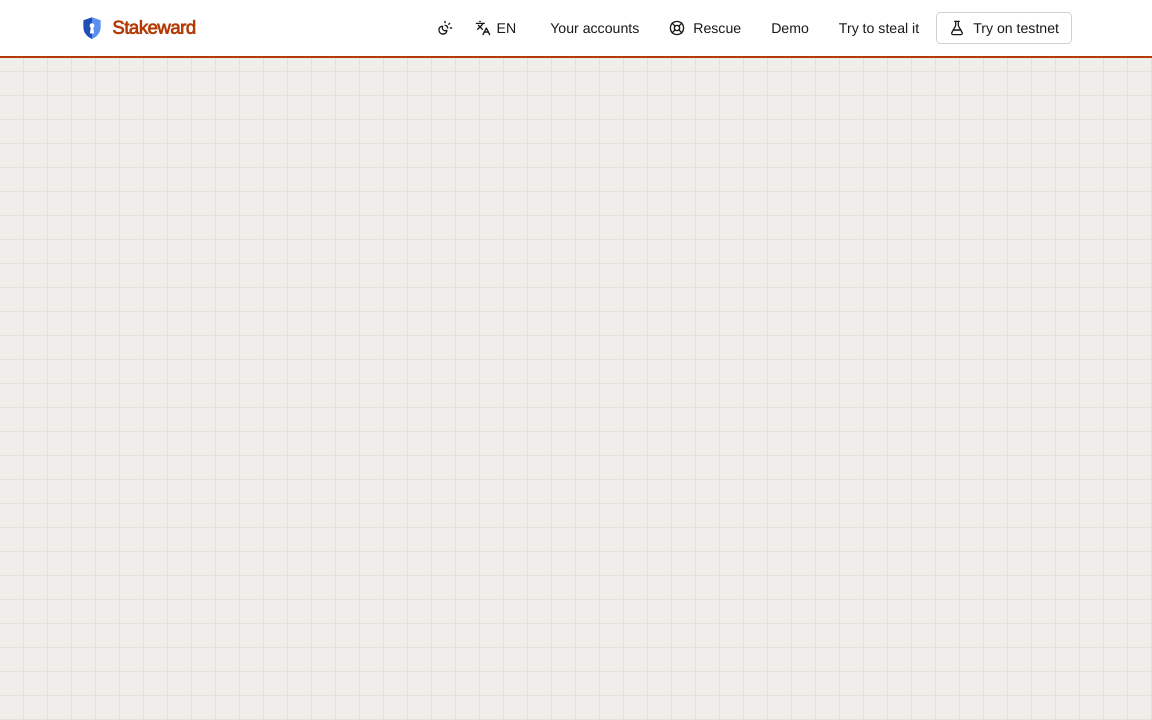
Test: SiteHeader › switches the theme next to the language: light, dark or the system one, kept for the next visit (D151)
Click the button named "Theme: System": x=445, y=28 [428,12,462,44]
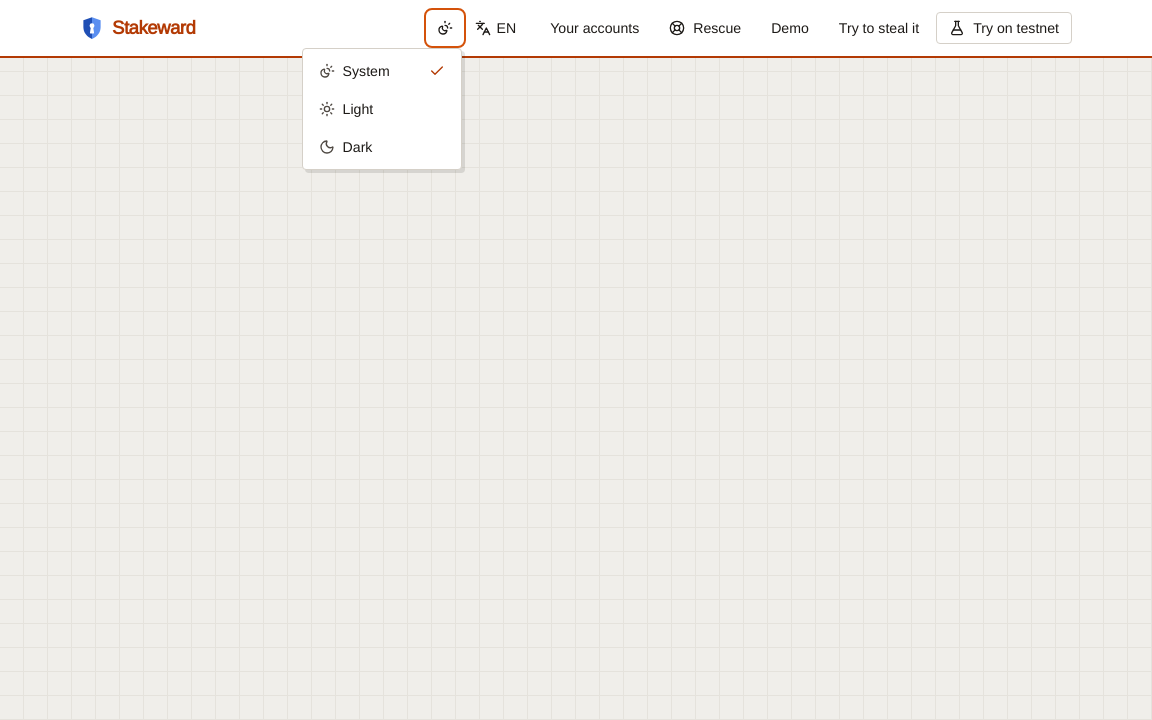
expect the buttons read "System", "Light", "Dark", in this order: met
Click the button "Dark": x=382, y=147 [307,129,457,165]
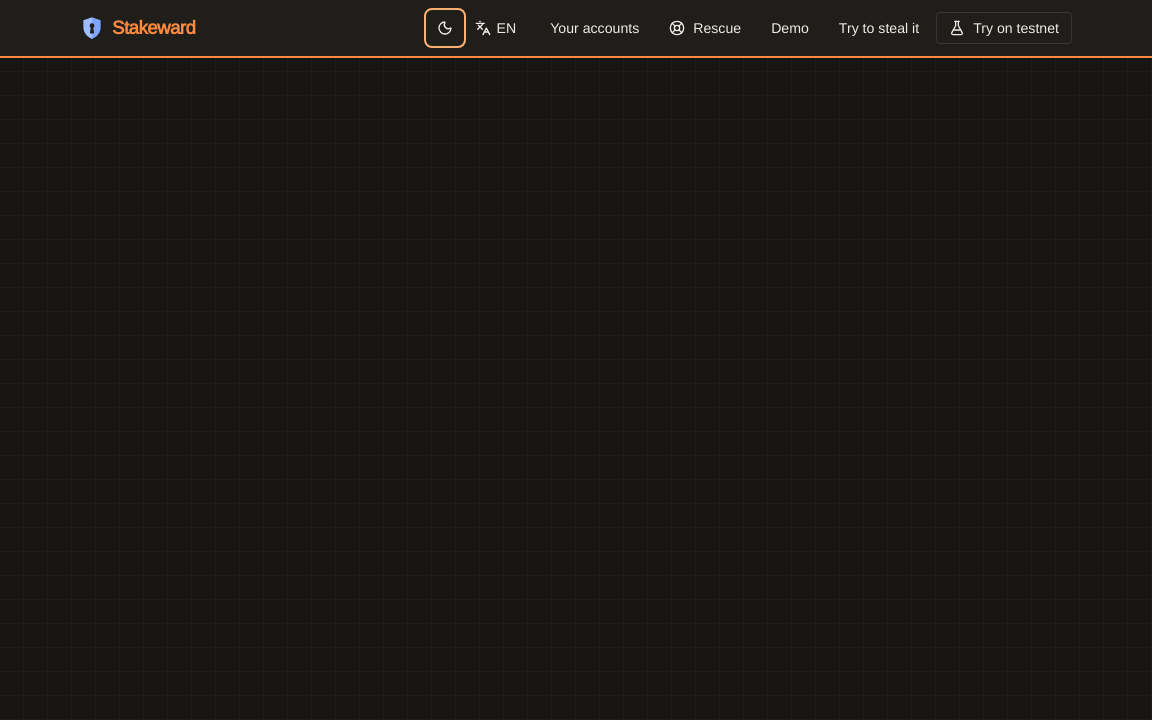
expect the button named "Theme: Dark" is collapsed: met
Click the button named "Theme: Dark": x=445, y=28 [428,12,462,44]
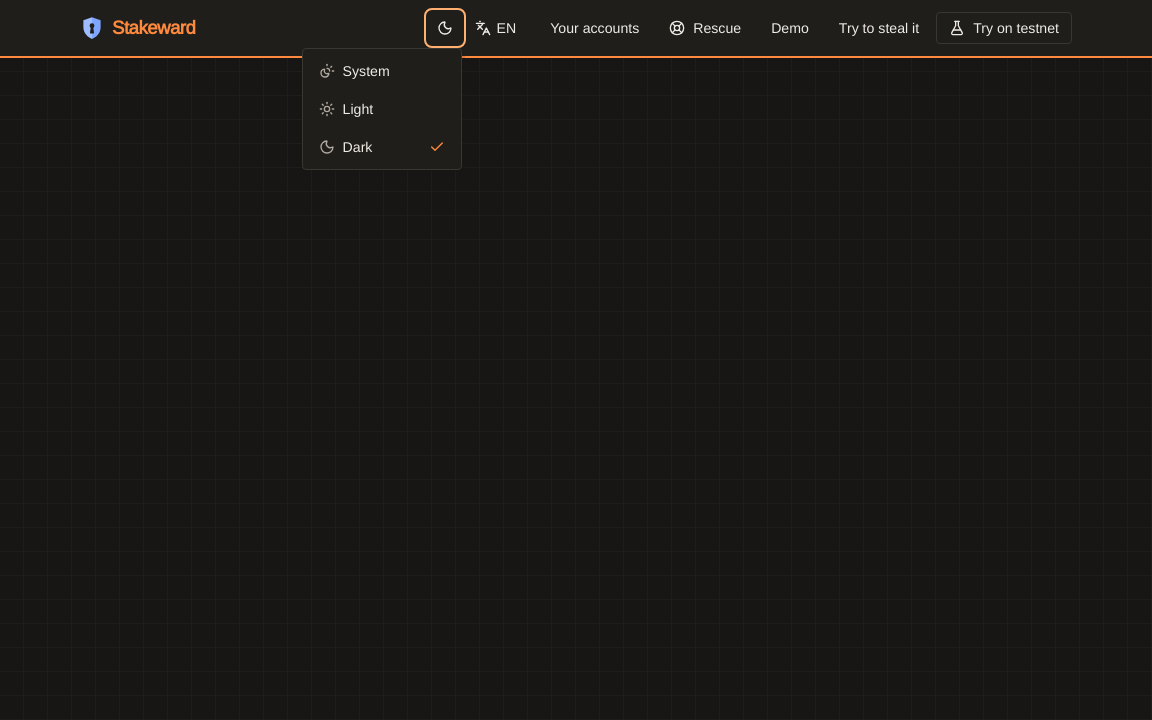
Press Escape
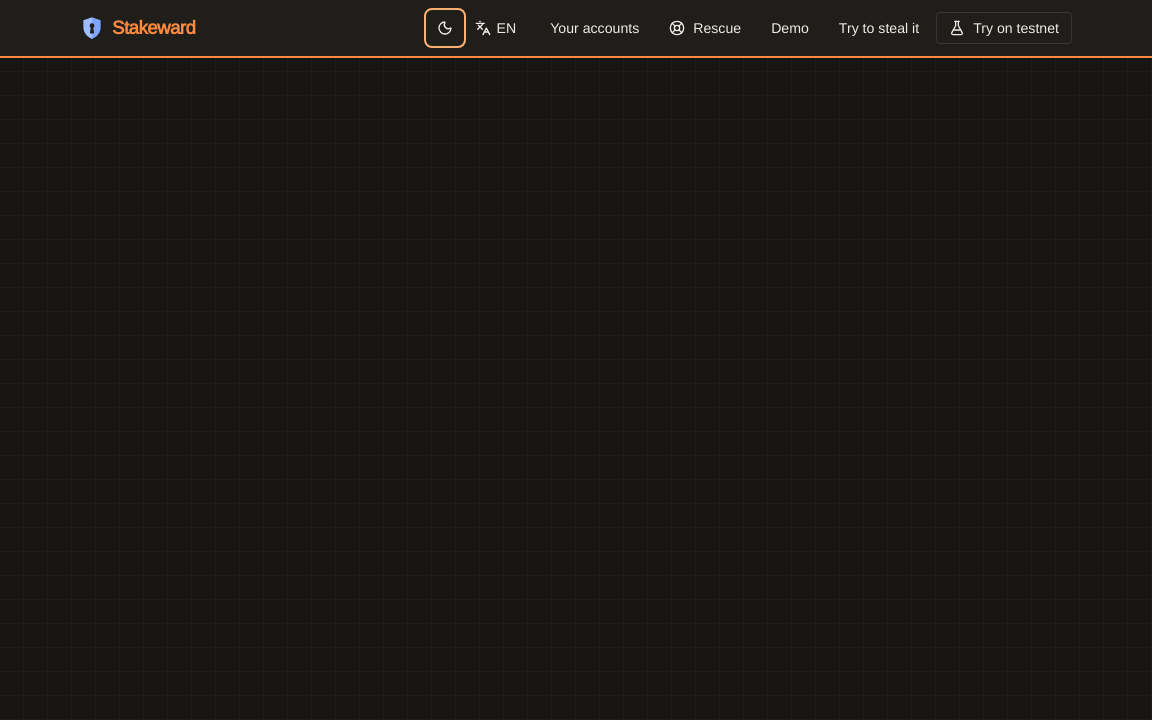
Click the button named "Theme: Dark": x=445, y=28 [428,12,462,44]
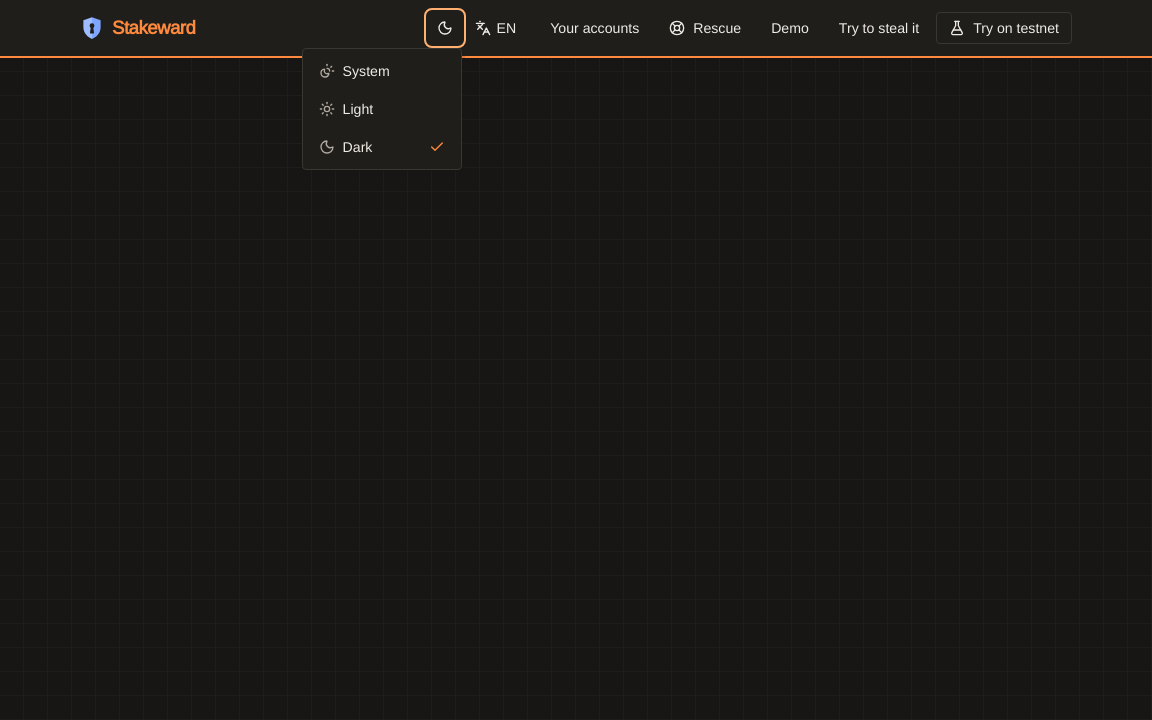
Click the button "System": x=382, y=71 [307,53,457,89]
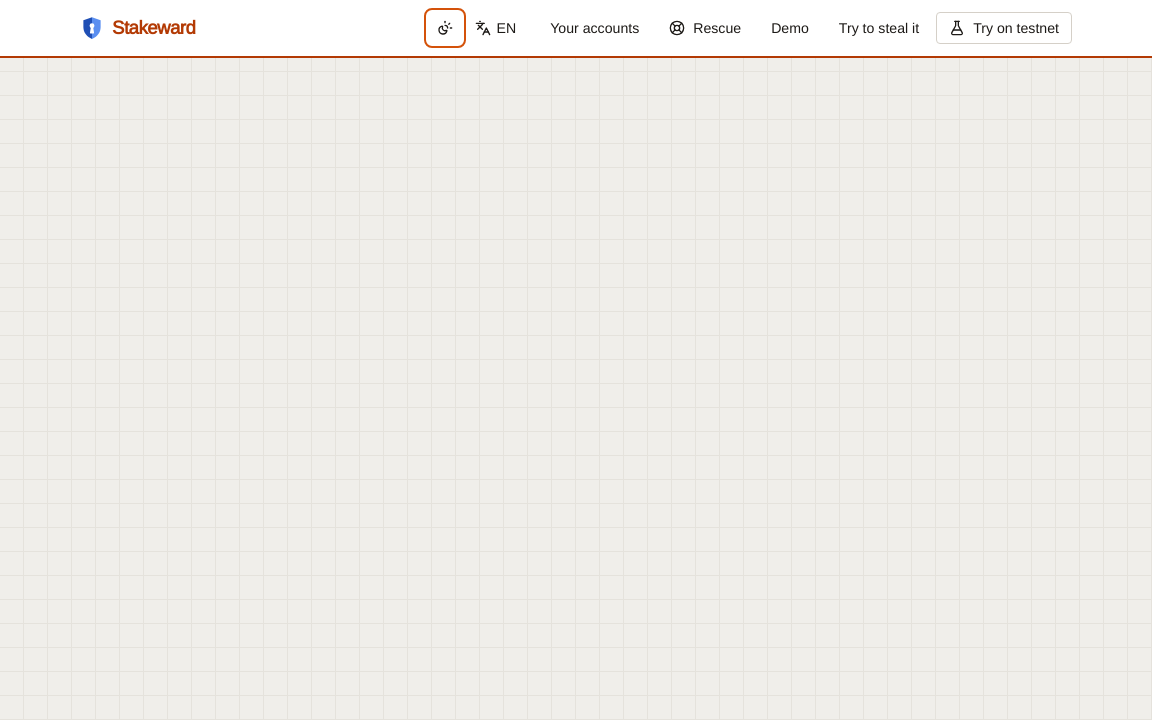
expect the button named "Theme: System" is shown: met, box [428,12,462,44]
